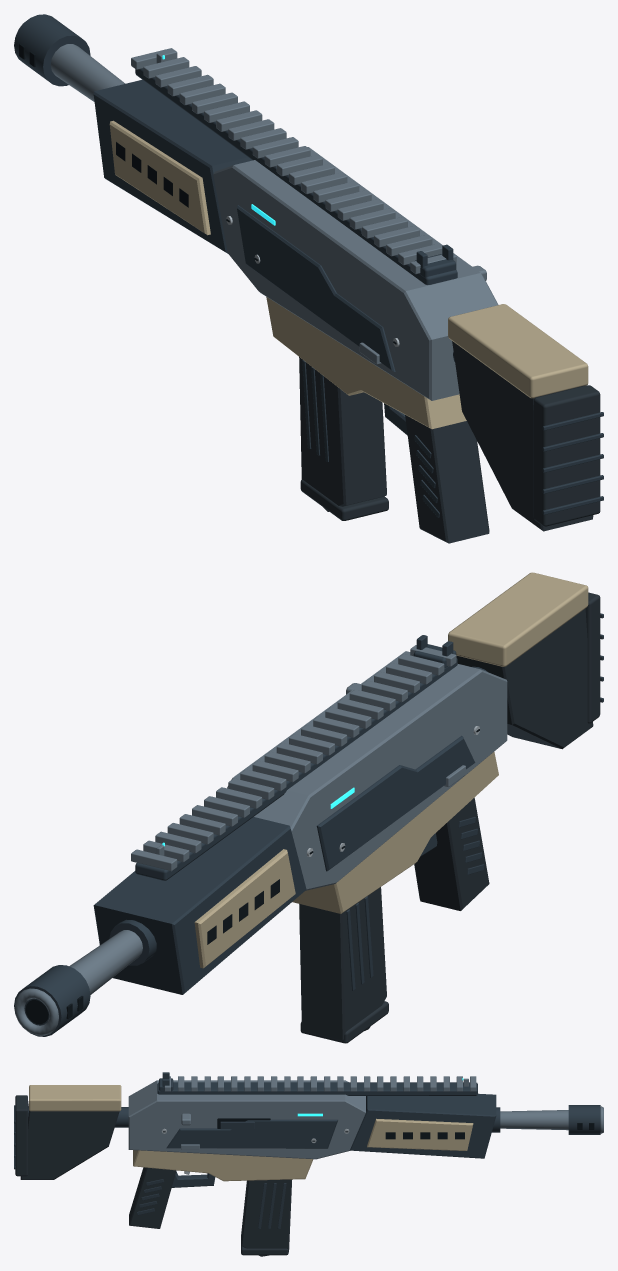
The model's file is rifle.glb.
3 renders of one model, top to bottom at view 1: azimuth 30°, elevation 25°; view 2: azimuth 150°, elevation 25°; view 3: azimuth 270°, elevation 25°, orthographic. The views are drawn at different scales.
Visible parts, largest first — view 1: rifle_part_0, rifle_part_2, rifle_part_6, rifle_stock_8, rifle_part_1, rifle_stock_9, rifle_stock_7, rifle_part_3; view 2: rifle_part_0, rifle_part_2, rifle_part_6, rifle_part_1, rifle_stock_8, rifle_stock_9, rifle_part_3; view 3: rifle_part_2, rifle_part_0, rifle_part_1, rifle_stock_8, rifle_part_6, rifle_stock_9, rifle_part_3, rifle_stock_7.
Boxes of the visible parts, left/top/right/bottom form: rifle_part_0: left=16, top=22, right=498, bottom=400; rifle_part_2: left=14, top=14, right=457, bottom=517; rifle_part_6: left=299, top=357, right=489, bottom=543; rifle_stock_8: left=452, top=341, right=600, bottom=531; rifle_part_1: left=109, top=120, right=466, bottom=429; rifle_stock_9: left=448, top=304, right=588, bottom=398; rifle_stock_7: left=453, top=352, right=603, bottom=514; rifle_part_3: left=19, top=43, right=396, bottom=344; rifle_part_0: left=15, top=645, right=507, bottom=1035; rifle_part_2: left=14, top=635, right=484, bottom=1036; rifle_part_6: left=299, top=798, right=489, bottom=1043; rifle_part_1: left=194, top=752, right=498, bottom=968; rifle_stock_8: left=456, top=592, right=600, bottom=749; rifle_stock_9: left=448, top=572, right=588, bottom=666; rifle_part_3: left=25, top=729, right=479, bottom=1024; rifle_part_2: left=137, top=1072, right=600, bottom=1228; rifle_part_0: left=128, top=1076, right=603, bottom=1159; rifle_part_1: left=133, top=1118, right=473, bottom=1181; rifle_stock_8: left=15, top=1095, right=119, bottom=1179; rifle_part_6: left=129, top=1167, right=291, bottom=1256; rifle_stock_9: left=29, top=1085, right=121, bottom=1111; rifle_part_3: left=163, top=1118, right=594, bottom=1141; rifle_stock_7: left=14, top=1105, right=128, bottom=1169.
Bounding box in the file's own units: 0.1235 × 0.3351 × 1.02.
